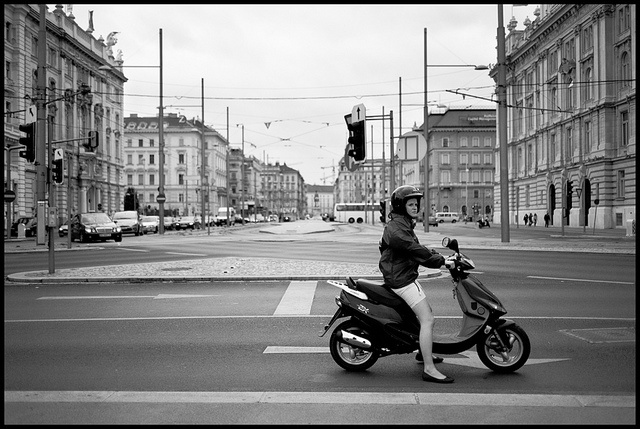non-vehicle: (317, 236, 531, 374), (477, 216, 491, 228)
